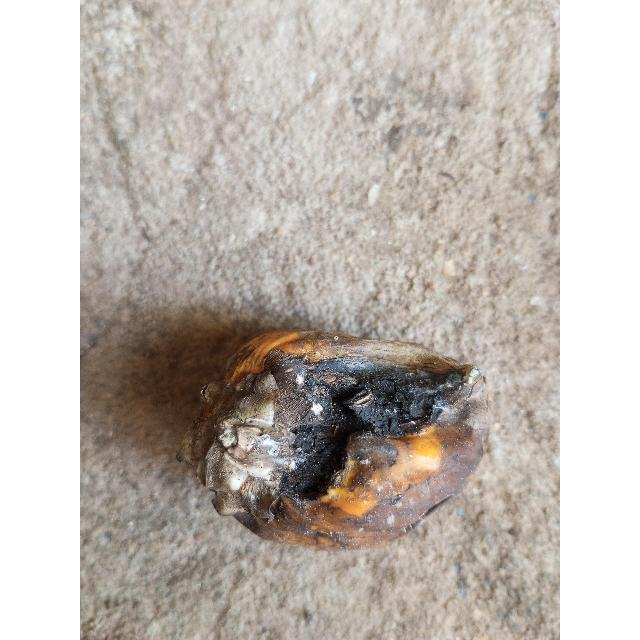damaged: (190, 332, 484, 553)
